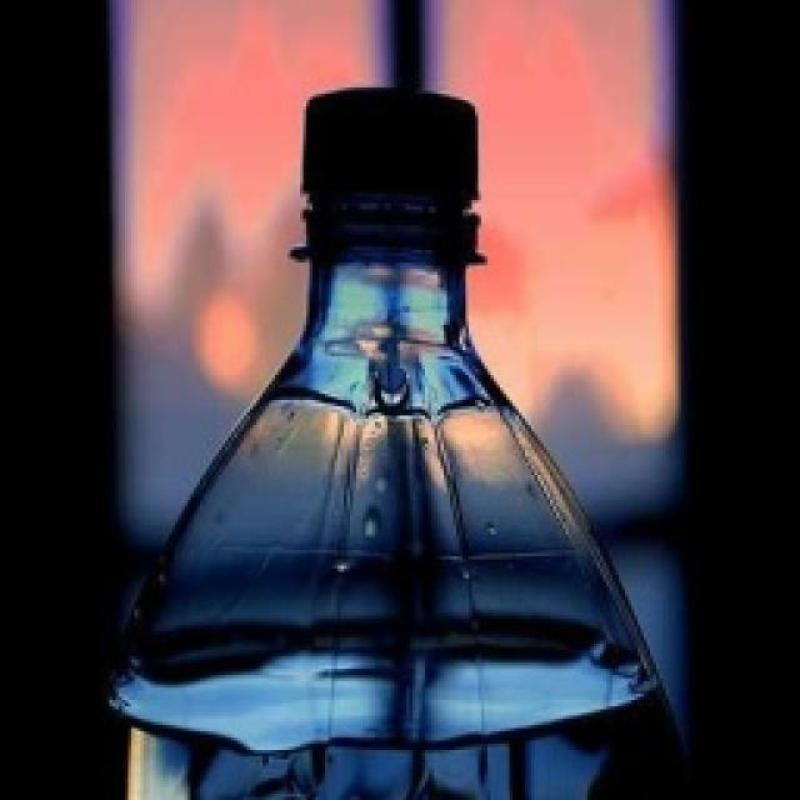botella: (121, 87, 681, 800)
